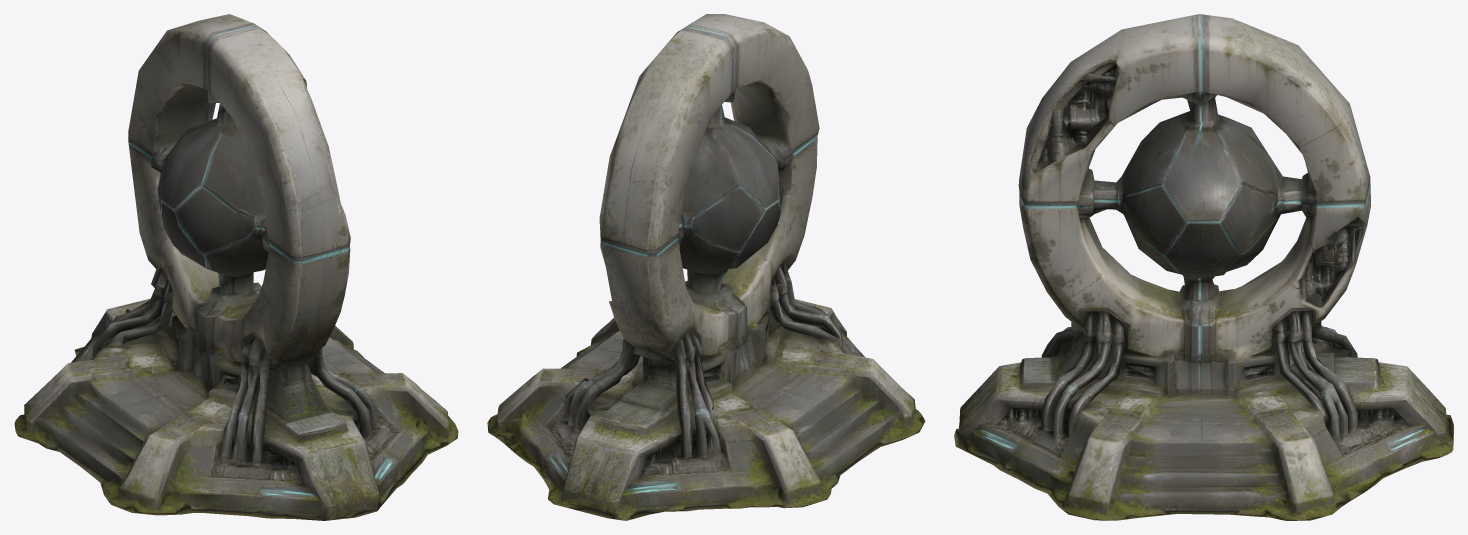
File: env_fu_core.glb
3 views of the same model, side by side, from view 1: azimuth 30°, elevation 25°; view 2: azimuth 150°, elevation 25°; view 3: azimuth 270°, elevation 25° (orthographic). The views are drawn at different scales.
Visible parts, largest first — view 1: tripo_node_7049305b-1f83-4d8b-bb56-f9b5689b3396; view 2: tripo_node_7049305b-1f83-4d8b-bb56-f9b5689b3396; view 3: tripo_node_7049305b-1f83-4d8b-bb56-f9b5689b3396.
Boxes of the visible parts, bbox=[...] form: tripo_node_7049305b-1f83-4d8b-bb56-f9b5689b3396: bbox=[14, 14, 458, 520]; tripo_node_7049305b-1f83-4d8b-bb56-f9b5689b3396: bbox=[487, 14, 925, 520]; tripo_node_7049305b-1f83-4d8b-bb56-f9b5689b3396: bbox=[954, 14, 1453, 520].
Size of the model in its own units: 0.8137 by 0.9071 by 1.
Materials: 1 (1 with a texture image).
